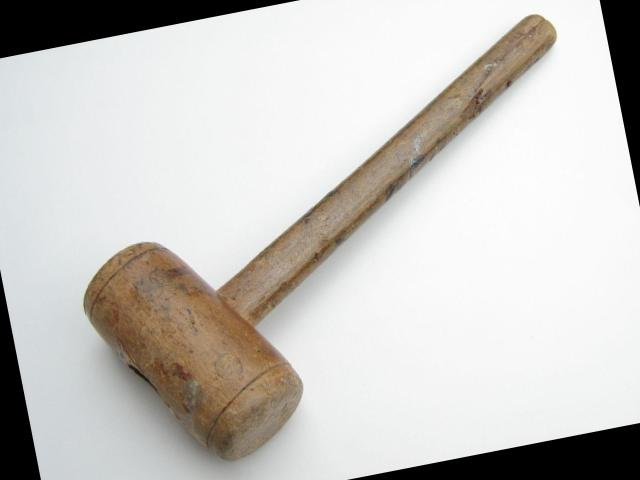hammer: (45, 8, 625, 480)
